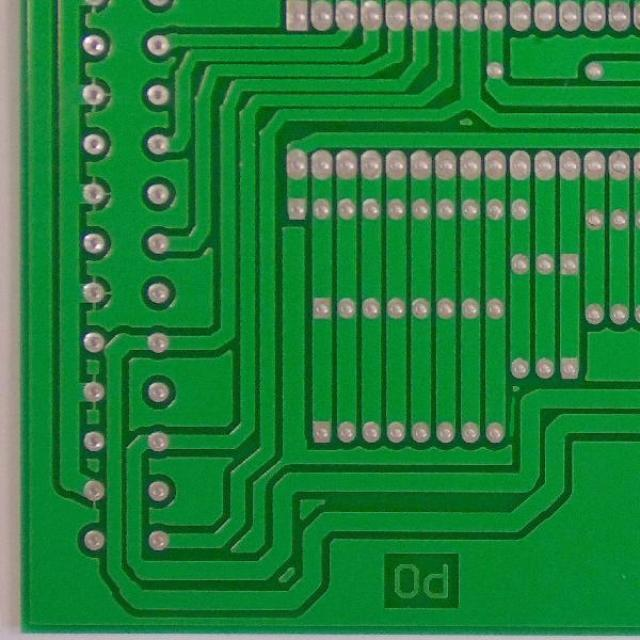Spurious_Cooper: (508, 396, 518, 438)
